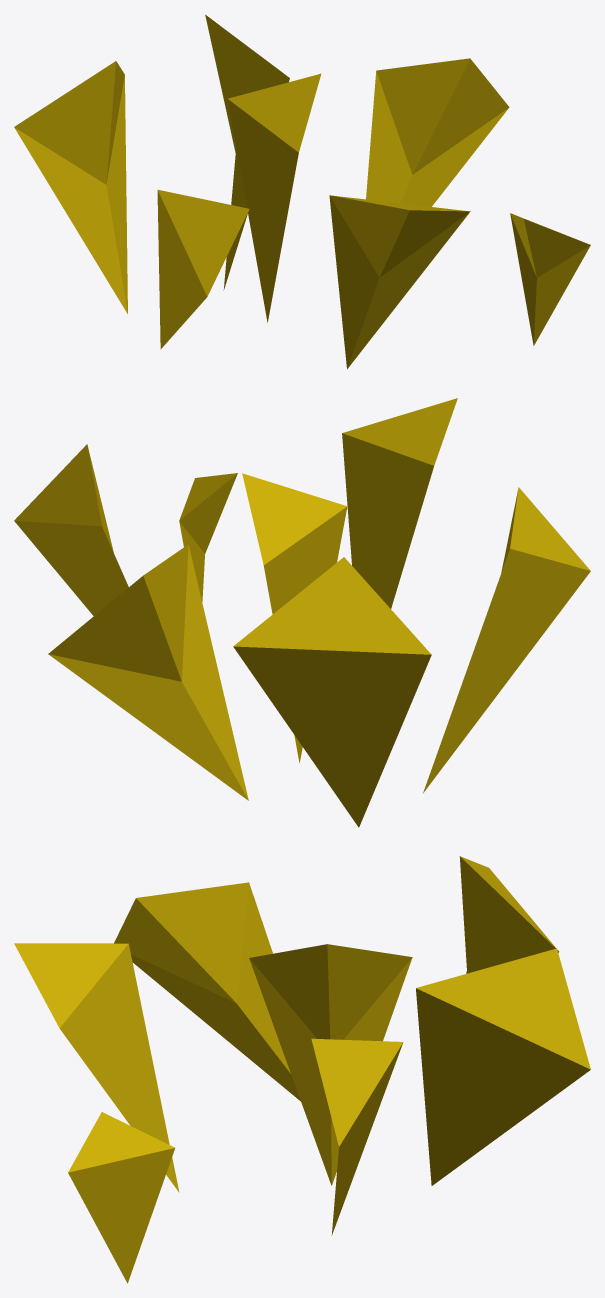
The model's file is yellow ragwort seeds.fbx.
The picture shows the model from 3 angles, top to bottom: view 1: azimuth 30°, elevation 25°; view 2: azimuth 150°, elevation 25°; view 3: azimuth 270°, elevation 25°; orthographic projection. The views are drawn at different scales.
Parts seen in each view (by area): view 1: Rogwarts14; view 2: Rogwarts14; view 3: Rogwarts14.
Boxes of the visible parts, bbox=[...] form: Rogwarts14: bbox=[14, 14, 590, 369]; Rogwarts14: bbox=[14, 398, 590, 827]; Rogwarts14: bbox=[14, 856, 590, 1283].
Size of the model in its own units: 2.91 by 1.58 by 2.98.
